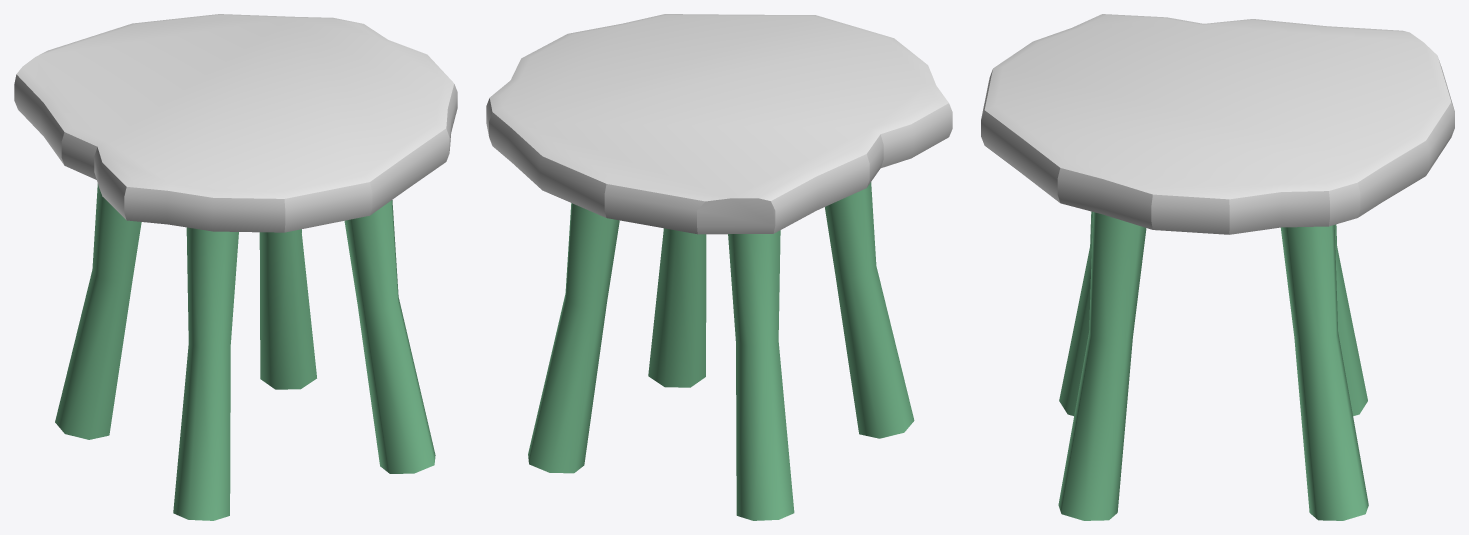
Rendered from Mini_Chair_2.fbx.
3 renders of one model, left to right at view 1: azimuth 30°, elevation 25°; view 2: azimuth 150°, elevation 25°; view 3: azimuth 270°, elevation 25°, orthographic. The views are drawn at different scales.
Visible parts, largest first — view 1: Line001, Cylinder002; view 2: Line001, Cylinder002; view 3: Line001, Cylinder002.
Part boxes in pixels (x1,y1,x2,y2): Line001: [14, 14, 457, 232]; Cylinder002: [55, 183, 435, 520]; Line001: [486, 14, 952, 234]; Cylinder002: [528, 182, 914, 520]; Line001: [981, 14, 1454, 234]; Cylinder002: [1058, 211, 1368, 520].
Bounding box in the file's own units: 72.51 × 65.09 × 77.07.
